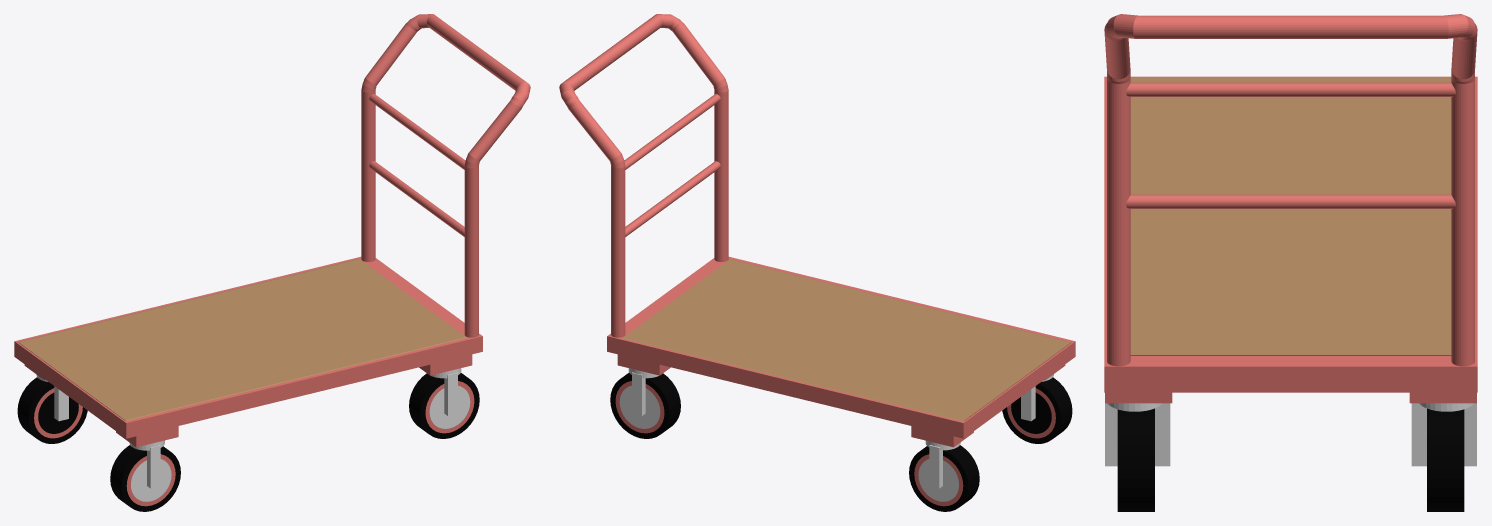
The model's file is Trolley.fbx.
The picture shows the model from 3 angles, left to right: view 1: azimuth 30°, elevation 25°; view 2: azimuth 150°, elevation 25°; view 3: azimuth 270°, elevation 25°; orthographic projection. The views are drawn at different scales.
Visible parts, largest first — view 1: Cylinder.024; view 2: Cylinder.024; view 3: Cylinder.024.
Part boxes in pixels (<box>): Cylinder.024: <box>14,14,530,511</box>; Cylinder.024: <box>559,14,1075,511</box>; Cylinder.024: <box>1104,14,1477,511</box>.
Bounding box in the file's own units: 233 × 382 × 497.
